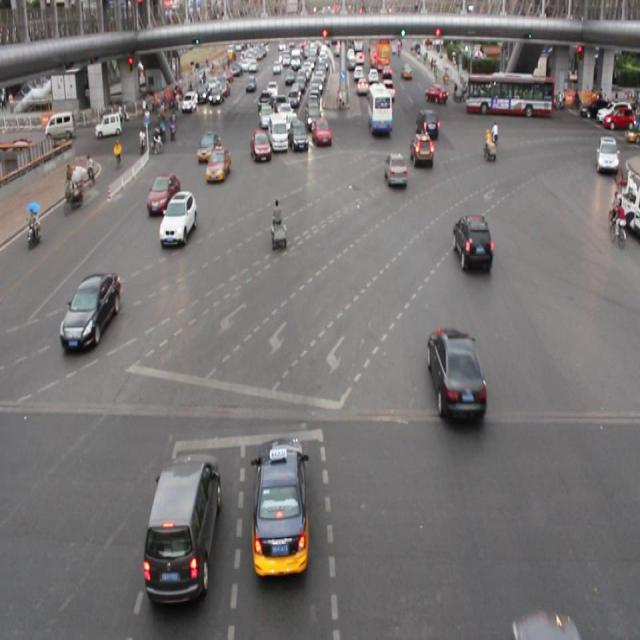car: (250, 434, 311, 578), (426, 328, 485, 423), (61, 273, 122, 347), (452, 212, 492, 269), (160, 190, 196, 242), (146, 174, 181, 214), (204, 145, 230, 181), (415, 106, 439, 142), (385, 152, 408, 189), (410, 132, 433, 168), (249, 128, 271, 164), (197, 131, 220, 162), (289, 119, 309, 154), (312, 117, 332, 150)
truck: (145, 450, 220, 601), (267, 115, 289, 154)
van: (367, 86, 392, 136)
